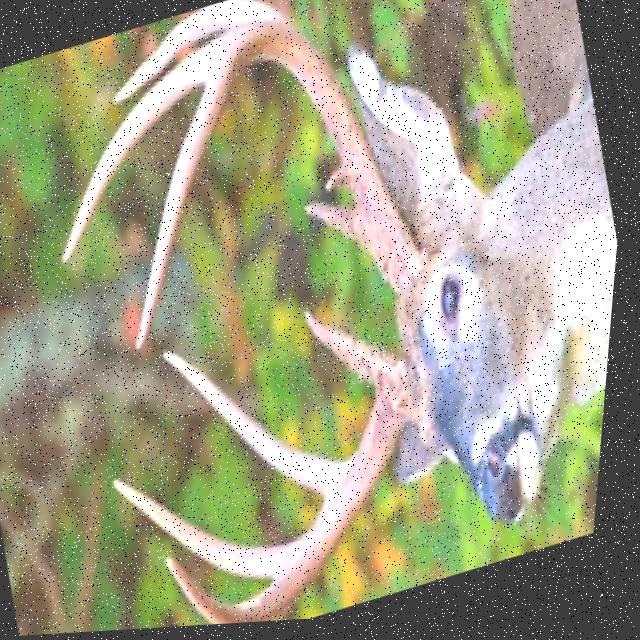L-F: (136, 0, 435, 358)
L-G1: (305, 203, 369, 255)
L-G2: (325, 168, 352, 199)
L-G3: (110, 0, 246, 110)
L-G4: (64, 38, 225, 269)
R-F: (169, 362, 419, 628)
R-G1: (305, 310, 406, 396)
R-G2: (164, 351, 358, 505)
R-G3: (115, 479, 309, 585)
